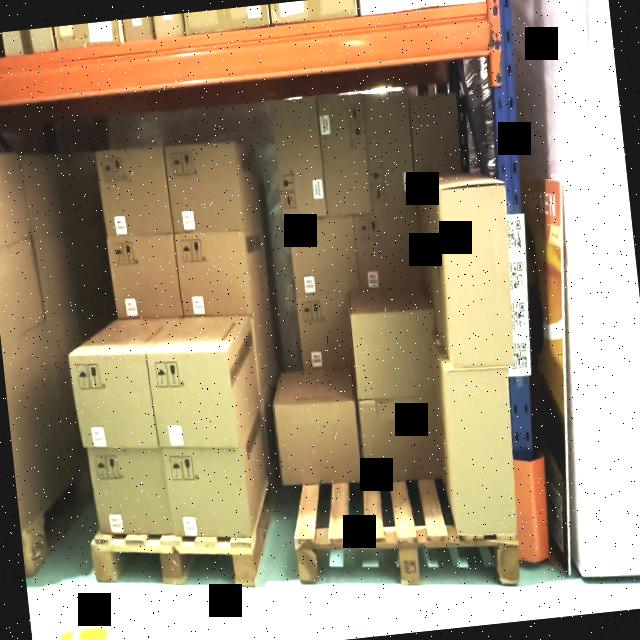box: (438, 182, 513, 368), (446, 368, 516, 534), (150, 345, 236, 445), (351, 308, 435, 398), (74, 353, 153, 447), (275, 398, 359, 486), (165, 446, 249, 534), (358, 395, 442, 481), (166, 142, 242, 235), (96, 145, 172, 236), (174, 228, 250, 318), (92, 448, 168, 534), (272, 99, 325, 218), (364, 90, 416, 210), (109, 233, 180, 320), (318, 95, 368, 214), (352, 208, 422, 290), (289, 215, 358, 295), (297, 292, 351, 369), (410, 94, 460, 172)
